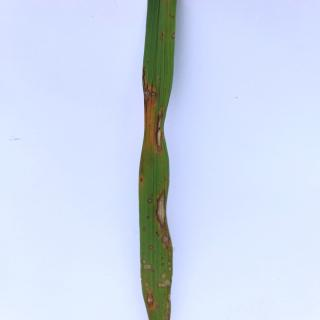Blast: (149, 91, 168, 156), (154, 184, 174, 241), (141, 75, 160, 121), (157, 228, 175, 253), (142, 287, 158, 308), (156, 274, 172, 290)
